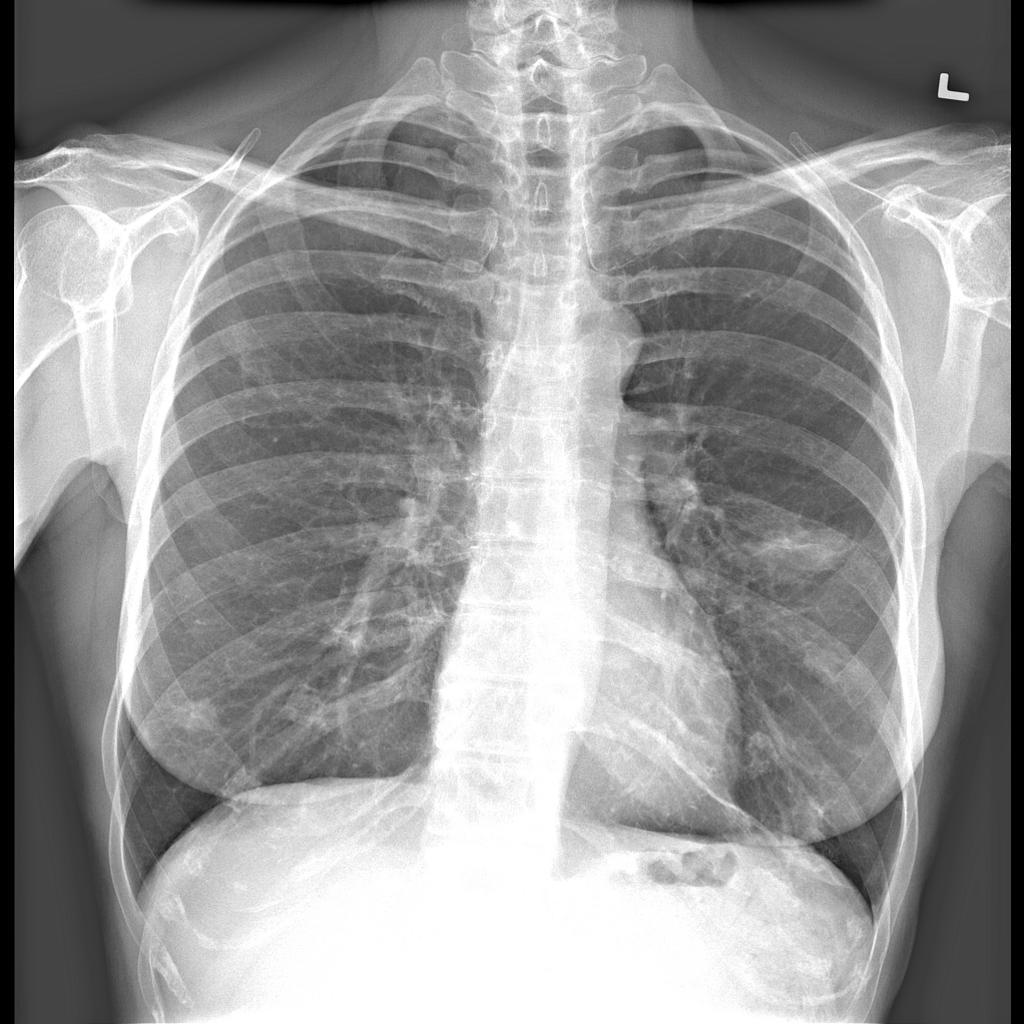Nodule: (753, 509, 861, 585), (738, 724, 787, 785), (167, 693, 221, 744)
